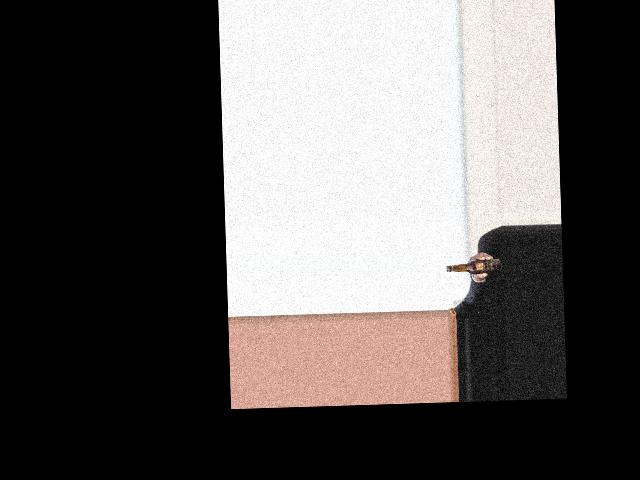beer: (446, 258, 502, 274)
